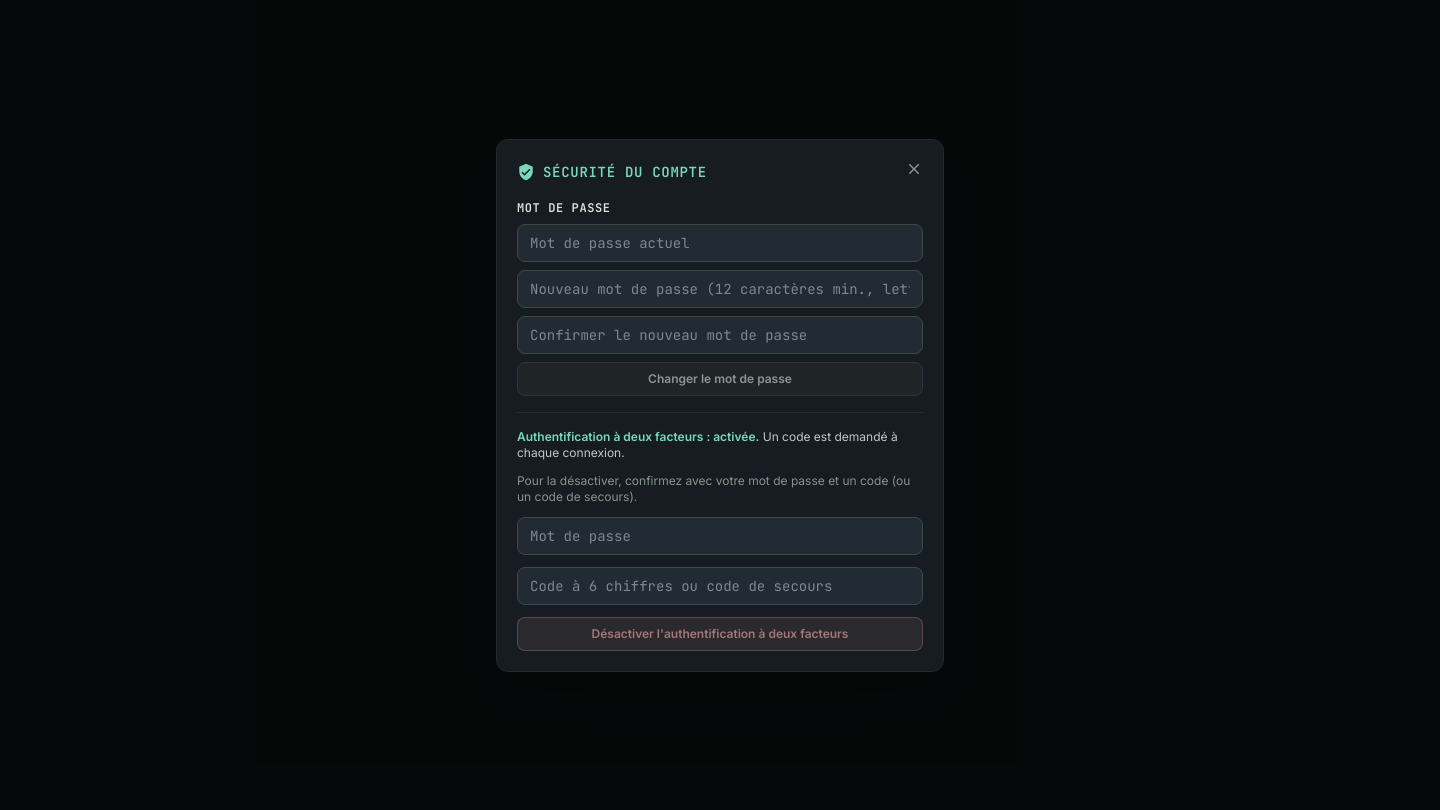
Test case: AccountSecurityModal › MFA actif : désactivation avec mot de passe et code
The width and height of the screenshot is (1440, 810).
Check: the button "Désactiver l'authentification à deux facteurs" is disabled, box [517,616,923,650]
Type "MotDePasse2026!" into the password field named "Mot de passe actuel" at [720, 536], box [517,516,923,554]
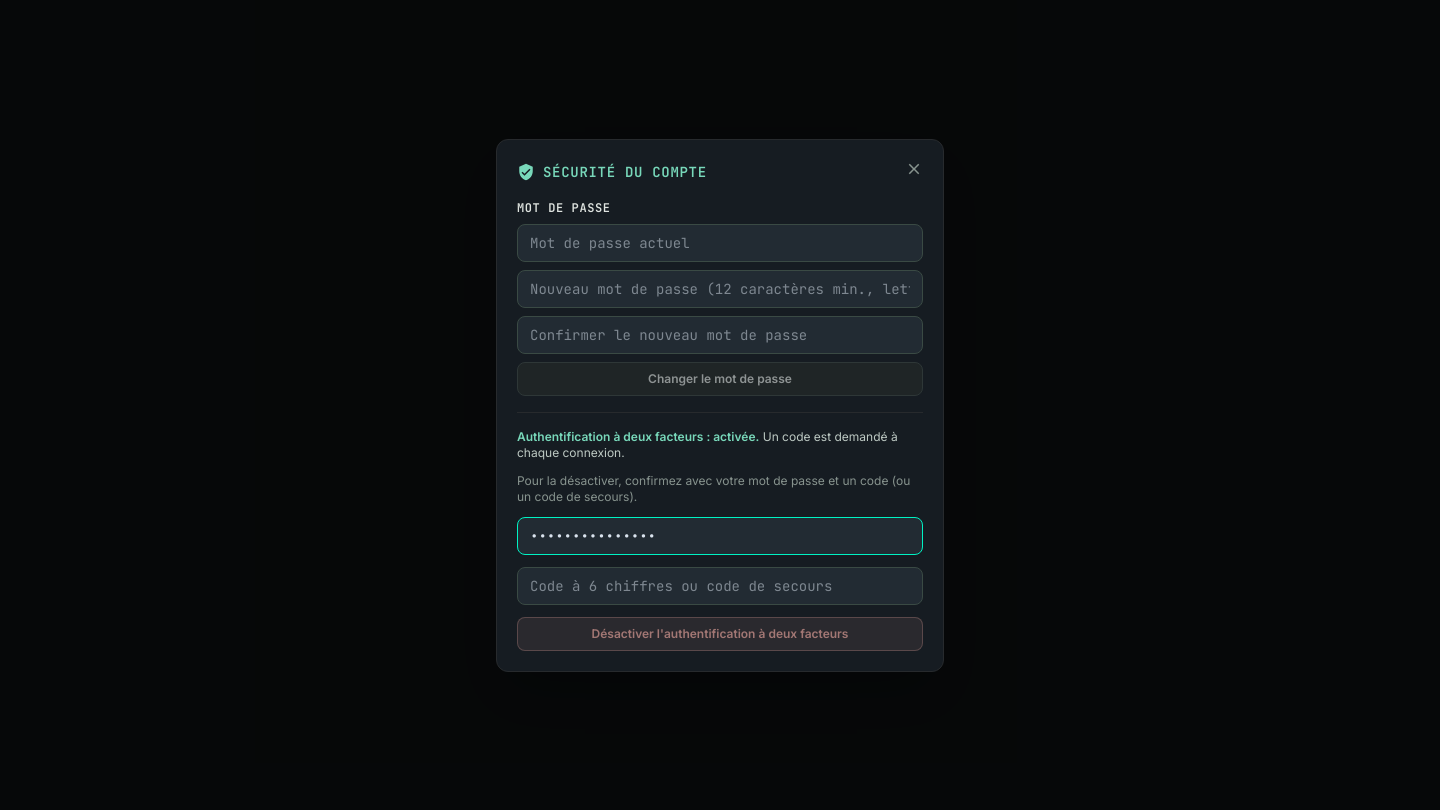
Type "123456" into the field named "Code MFA" at [720, 586], box [517,566,923,604]
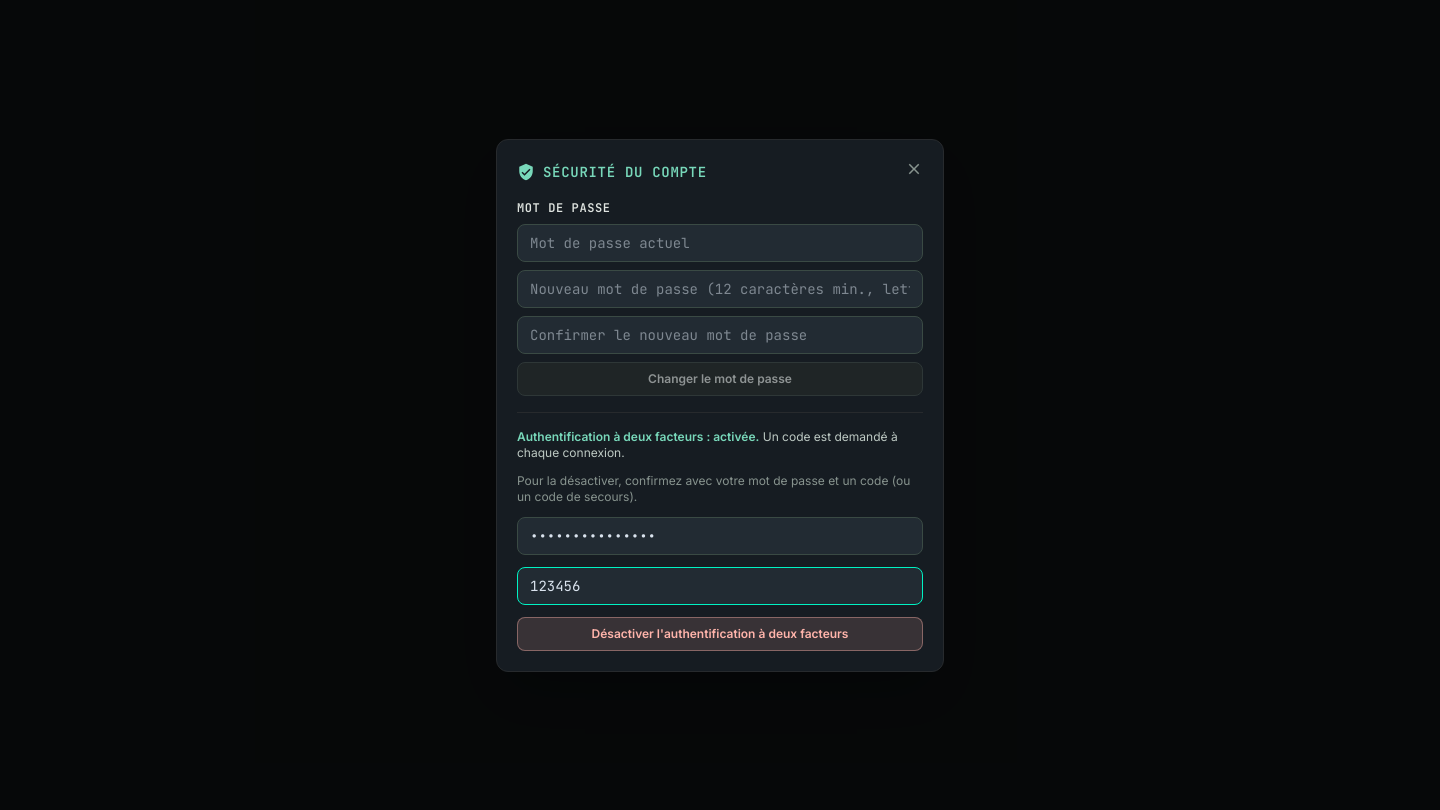
Click the button "Désactiver l'authentification à deux facteurs" at [720, 634], box [517,616,923,650]
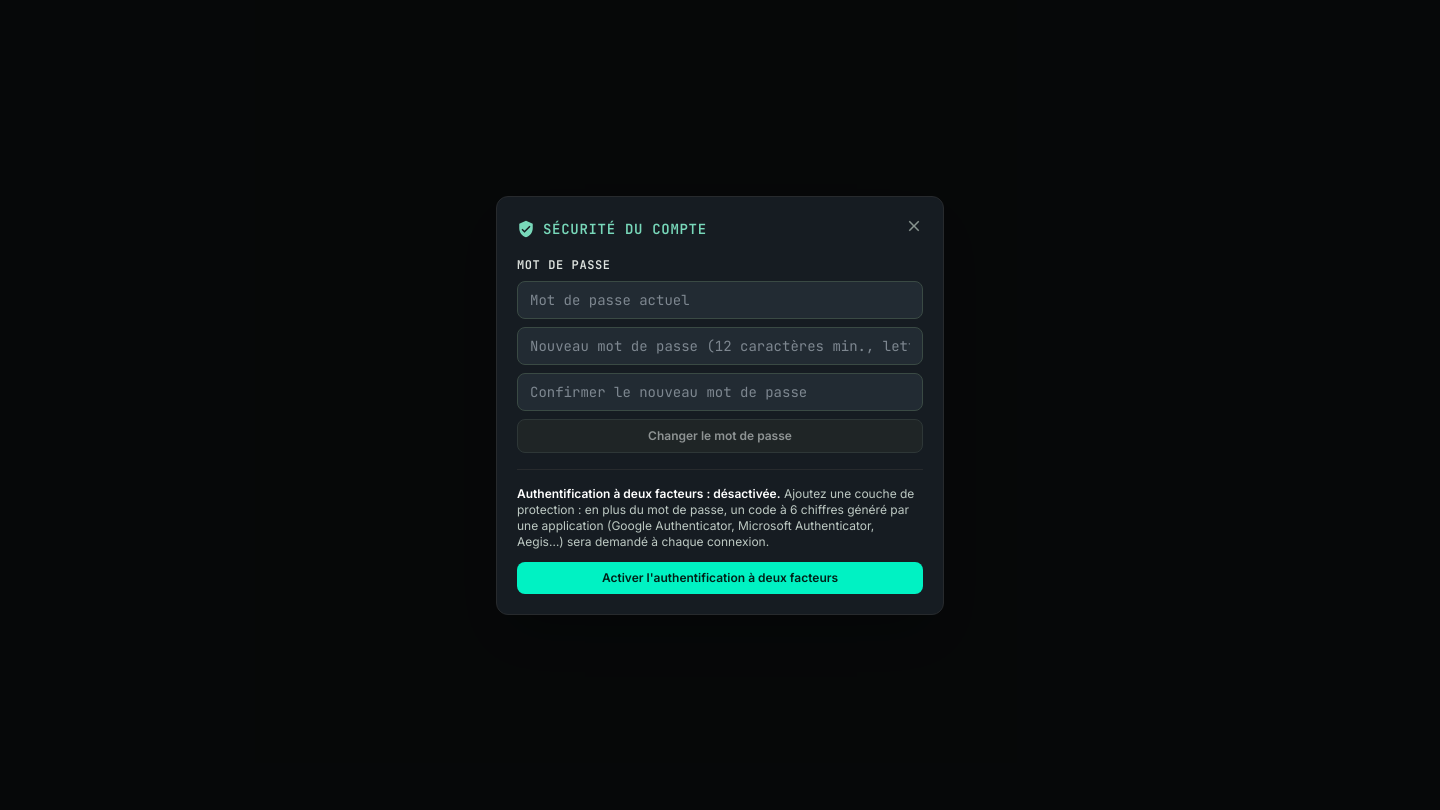
Check: the text "Authentification à deux facteurs : désactivée." is shown, box [517,486,780,500]
